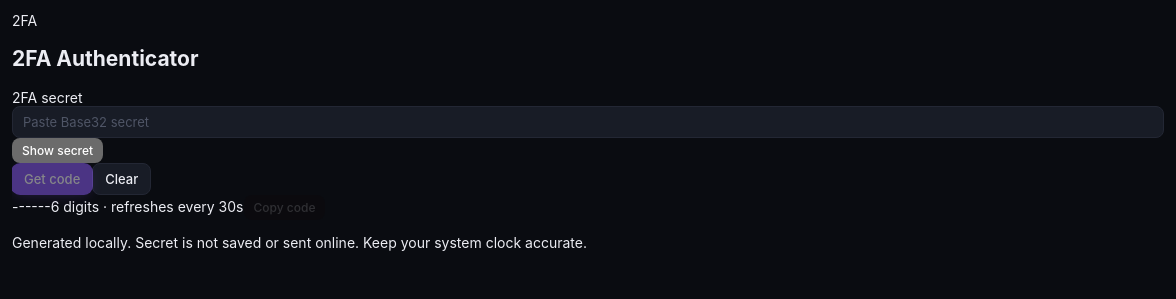
Test case: hides the secret and copies only the current code
Type "JBSWY3DPEHPK3PXP" into the password field labelled "2FA secret" at (588, 122), box [12, 106, 1164, 138]
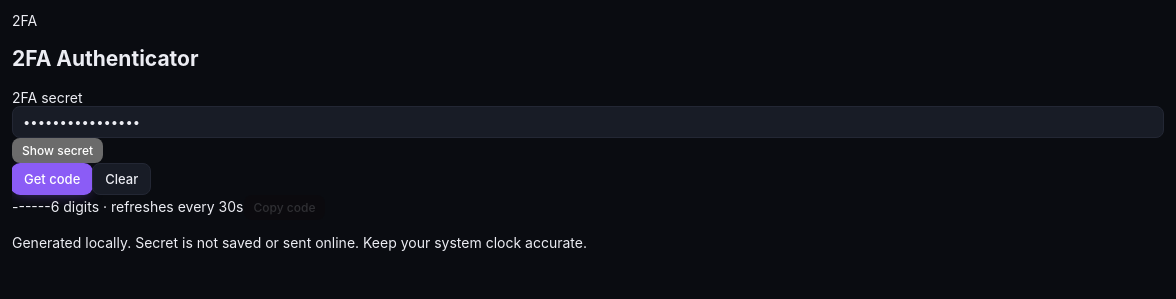
Click the button "Get code" at (52, 179), box [12, 164, 92, 194]
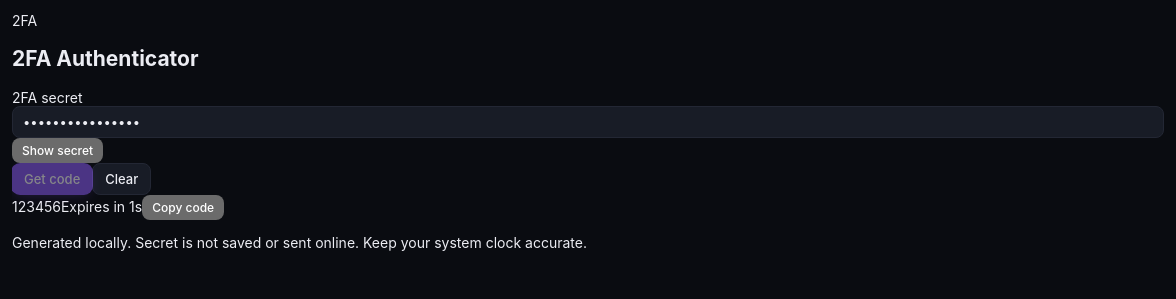
Now the text "123456" is shown, box [12, 198, 61, 215]
Now the text "Expires in 1s" is shown, box [61, 198, 142, 215]
Click the button "Copy code" at (183, 207), box [142, 195, 224, 220]
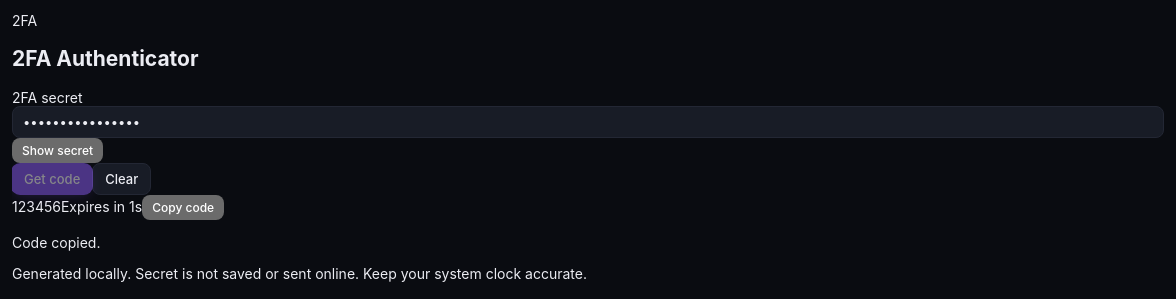
Now the message reads "Code copied.", box [12, 234, 100, 251]
Click the button "Show secret" at (58, 150), box [12, 138, 103, 163]
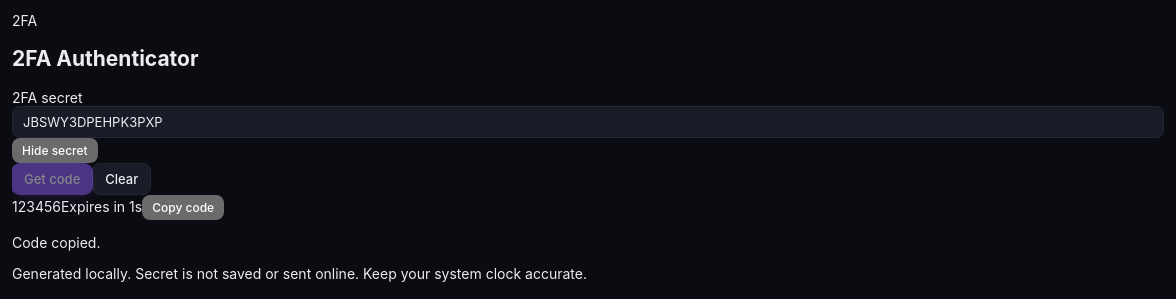
Now the field labelled "2FA secret" shows its text, box [12, 106, 1164, 138]
Click the button "Clear" at (122, 179), box [92, 163, 151, 195]
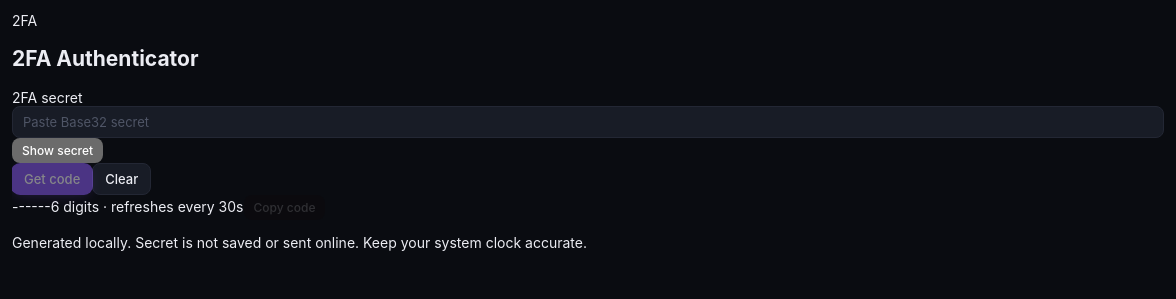
Now the password field labelled "2FA secret" is empty, box [12, 106, 1164, 138]
Now the text "123456" is gone
Now the button "Copy code" is disabled, box [244, 195, 326, 220]
